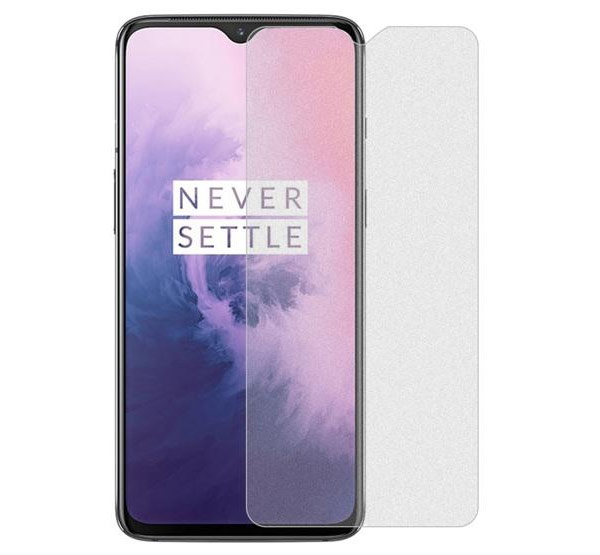phone: (108, 11, 372, 544)
